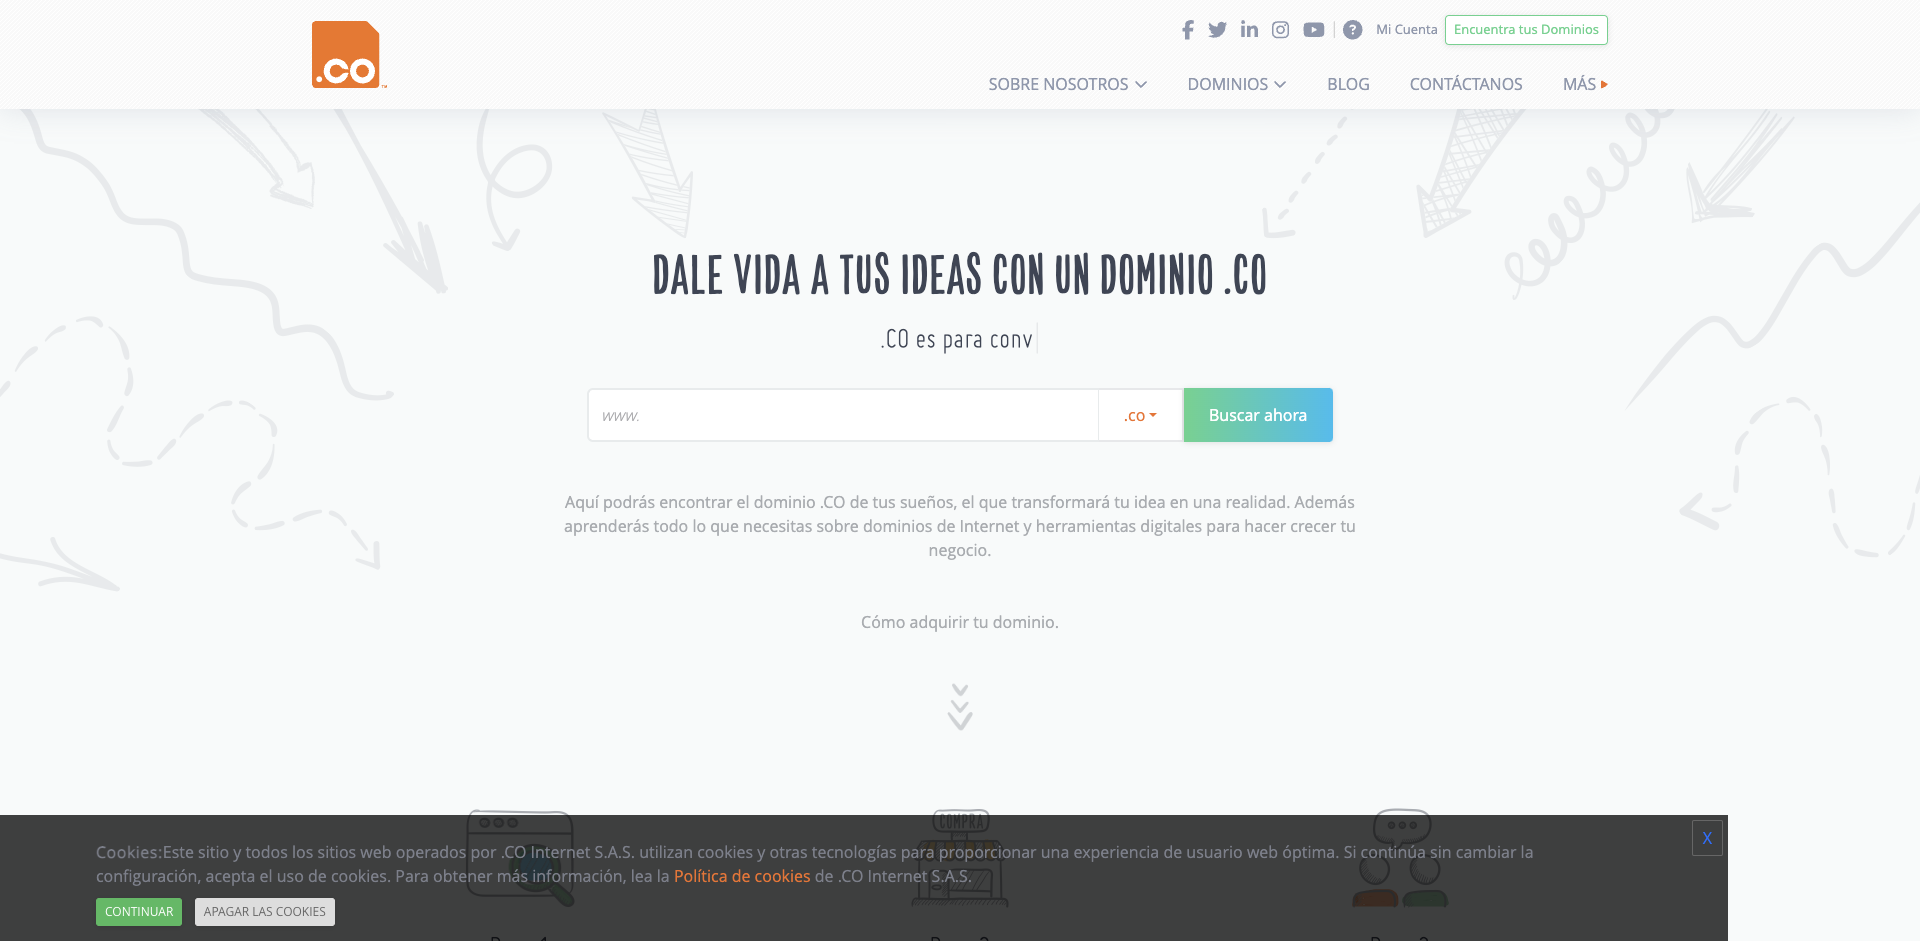button: (1184, 388, 1333, 442), (1829, 852, 1900, 921), (1445, 15, 1608, 44), (1098, 388, 1184, 442), (195, 898, 334, 926), (96, 898, 182, 926)
dropdown: (403, 0, 1608, 109), (988, 60, 1147, 109), (1188, 60, 1287, 109), (1562, 60, 1608, 109)
icon: (1242, 20, 1259, 39)
input: (587, 388, 1100, 442)
link: (988, 60, 1147, 109), (312, 11, 387, 98), (1409, 60, 1523, 109), (1188, 60, 1287, 109), (673, 865, 811, 887), (1562, 60, 1608, 109), (1327, 60, 1370, 109), (1369, 20, 1445, 39), (1297, 20, 1332, 39), (1201, 20, 1234, 39), (1336, 20, 1369, 39), (1265, 20, 1297, 39), (1234, 20, 1265, 39), (1174, 20, 1201, 39), (1703, 827, 1712, 849)
